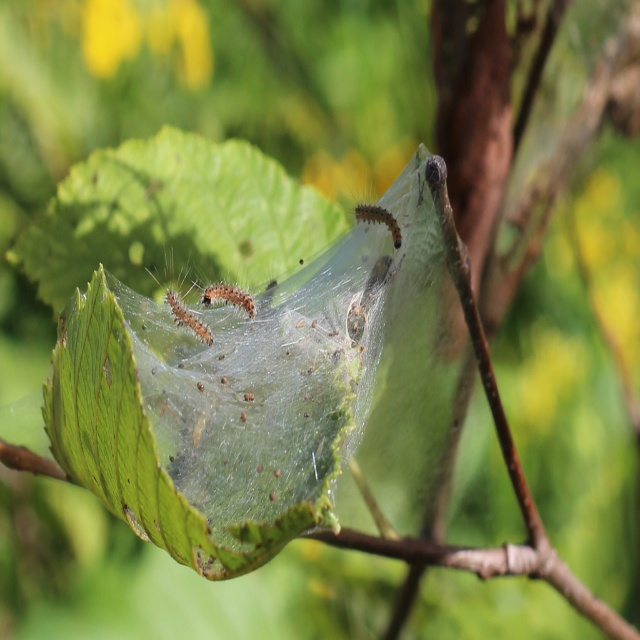Caterpillar: (143, 243, 212, 346), (348, 174, 407, 252), (189, 261, 258, 318)
